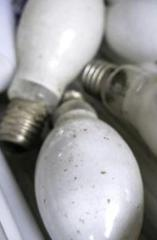lightbulb: (0, 0, 157, 239), (0, 0, 106, 150), (34, 96, 144, 239), (80, 56, 157, 162), (104, 1, 156, 66), (0, 1, 18, 96)
